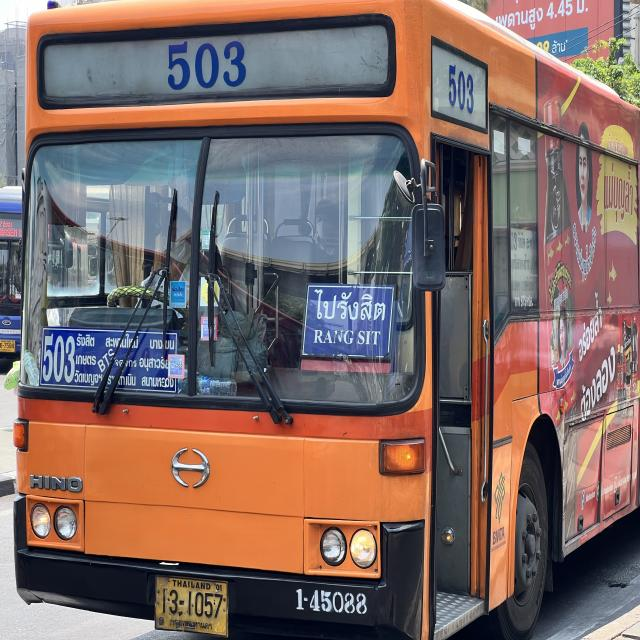BMTA-bus: (12, 0, 640, 640)
Bus-Line-Number: (156, 28, 254, 98)
Destination-Sign-Normal: (302, 278, 393, 357)
